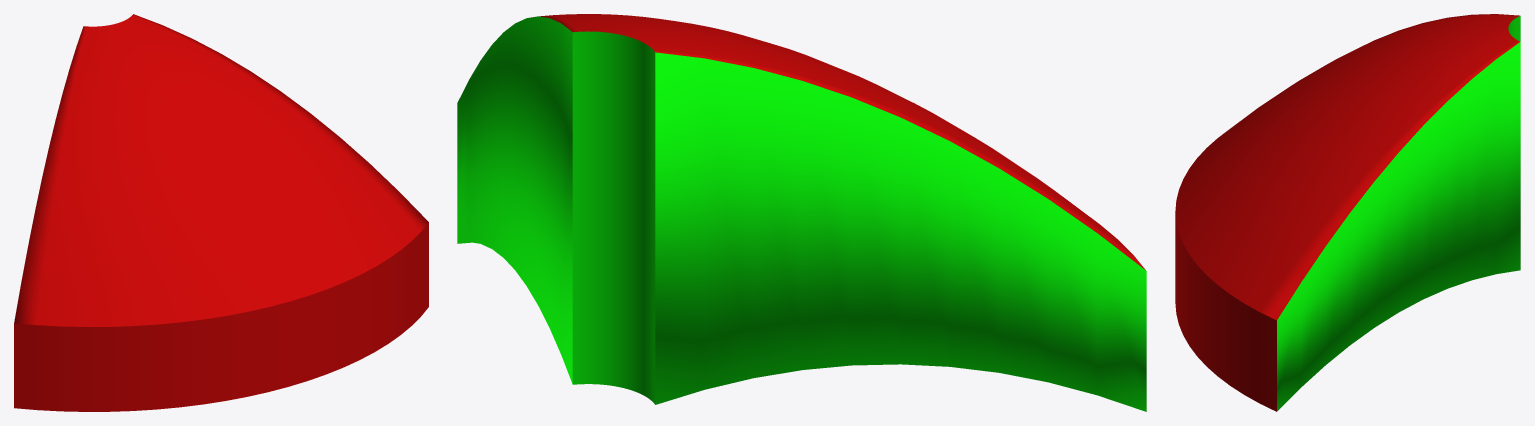
The model's file is Oyster_Growth.glb.
3 renders of one model, left to right at view 1: azimuth 30°, elevation 25°; view 2: azimuth 150°, elevation 25°; view 3: azimuth 270°, elevation 25°, orthographic. The views are drawn at different scales.
Visible parts, largest first — view 1: Oyster; view 2: Oyster; view 3: Oyster.
Boxes of the visible parts, x1,y1,x2,y2 form: Oyster: [14, 14, 428, 411]; Oyster: [457, 14, 1146, 411]; Oyster: [1175, 14, 1520, 411].
Bounding box in the file's own units: 0.00818 × 0.0048 × 0.00547.
